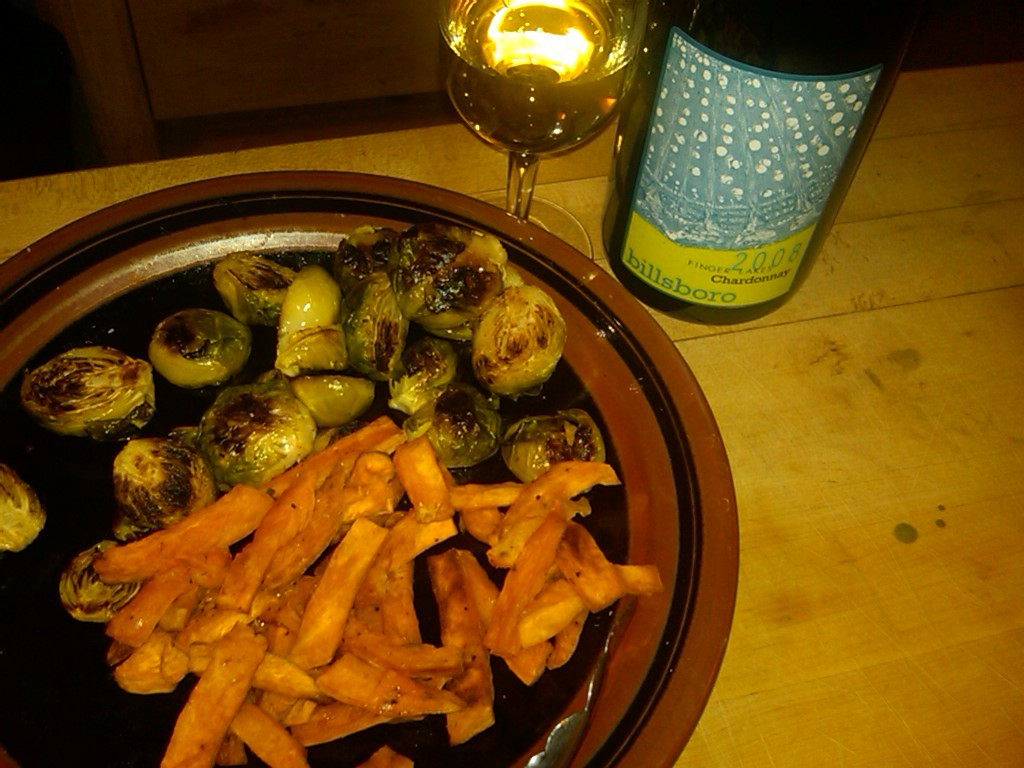French fries: (108, 343, 620, 725)
